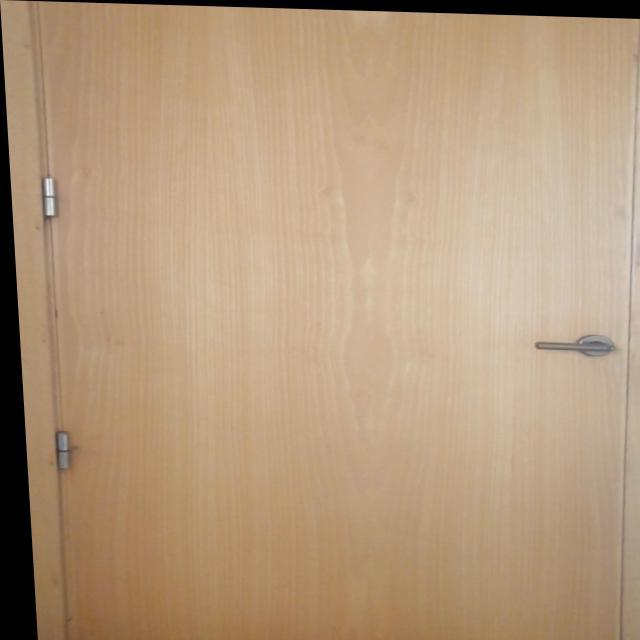door_handle: (523, 335, 615, 351)
